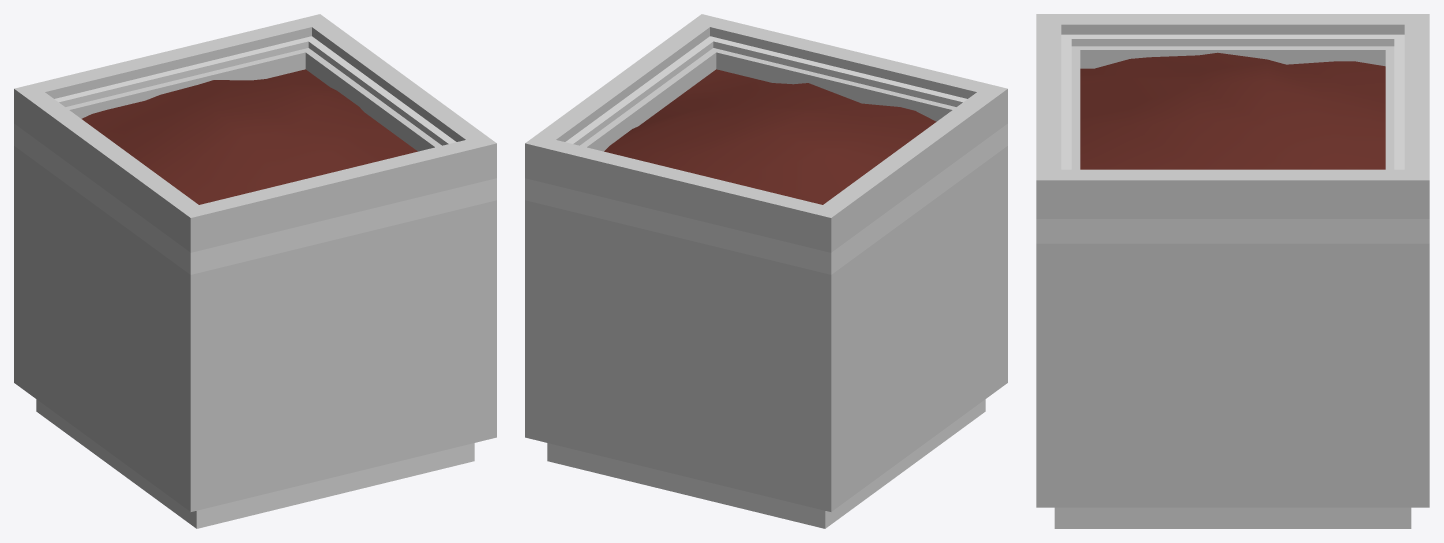
File: Corridor Pot.fbx
3 renders of one model, left to right at view 1: azimuth 30°, elevation 25°; view 2: azimuth 150°, elevation 25°; view 3: azimuth 270°, elevation 25°, orthographic. The views are drawn at different scales.
Visible parts, largest first — view 1: Cube.002; view 2: Cube.002; view 3: Cube.002.
Boxes of the visible parts, left/top/right/bottom form: Cube.002: left=14, top=14, right=496, bottom=528; Cube.002: left=525, top=14, right=1007, bottom=528; Cube.002: left=1036, top=14, right=1429, bottom=528.
Bounding box in the file's own units: 0.9 × 0.9026 × 0.9.
